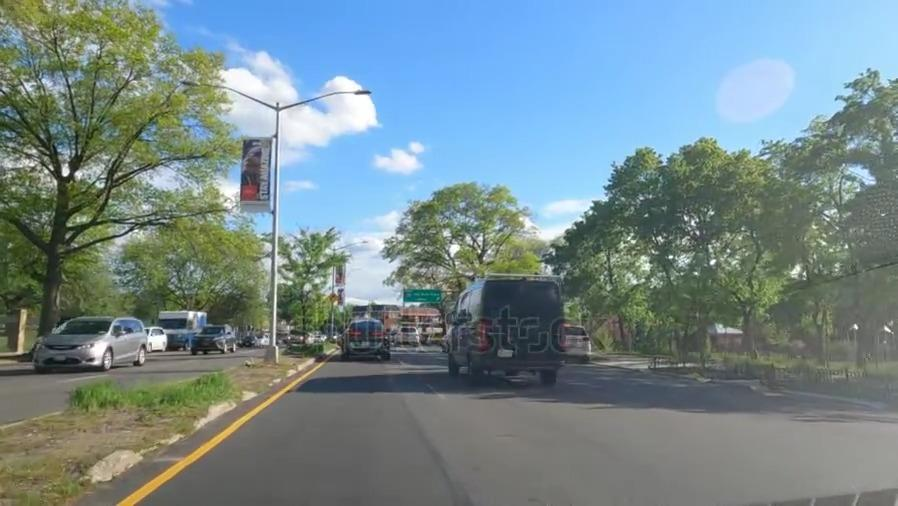car: (38, 318, 149, 369), (343, 317, 390, 359), (564, 322, 599, 361), (192, 326, 238, 355), (148, 327, 169, 349)
van: (437, 273, 577, 387), (157, 307, 207, 350)
